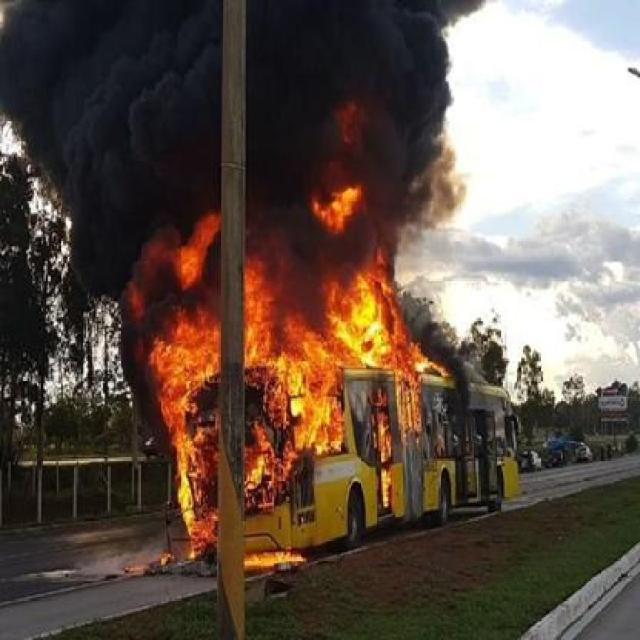Fire: (110, 192, 450, 562)
Smoke: (9, 2, 468, 188)
